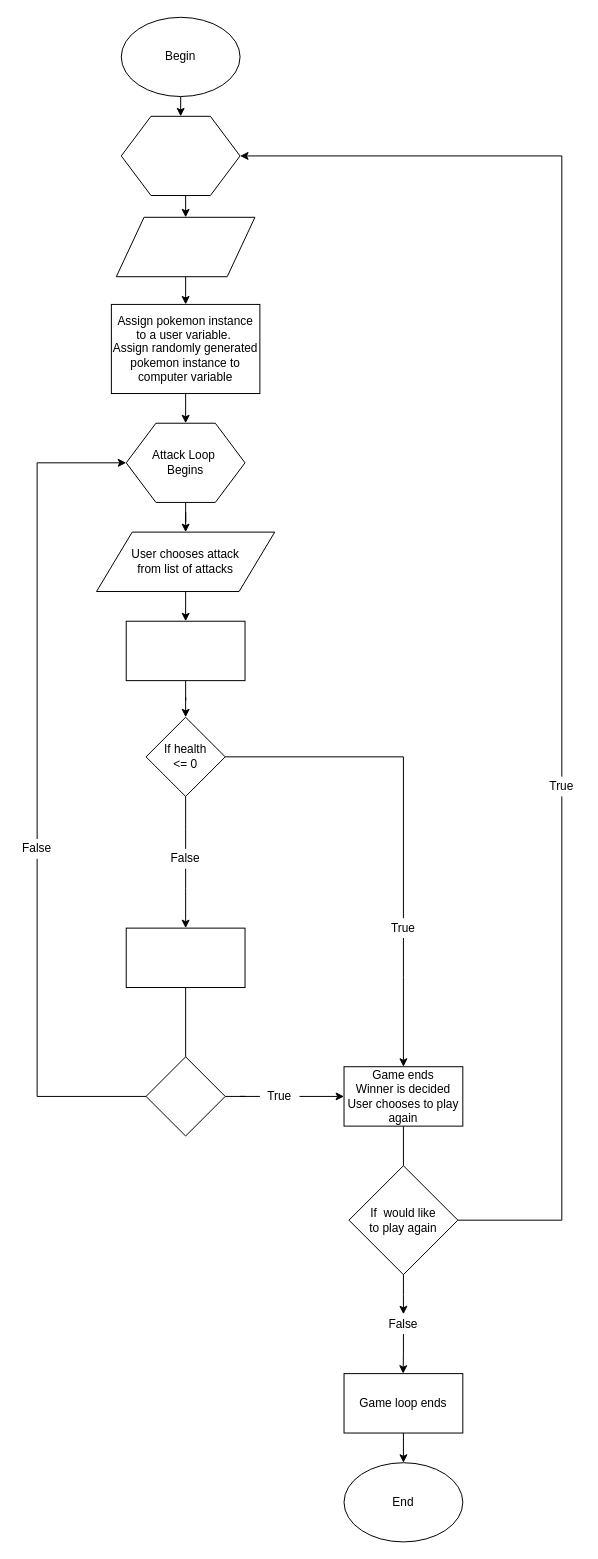
This 598x1559 diagram has some shape labels left out. The shapes that lost their labels are listed below. From the top down, each one's box as (x1, y1, x2, y2) in pixels, then its label:
(120, 115, 240, 196): Game loop begins
(115, 216, 255, 277): User Chooses pokemon from a range of options
(125, 620, 245, 681): Take damage off opponent health
(125, 927, 245, 988): Opponent attacks
(145, 1056, 225, 1136): If user health <= 0
